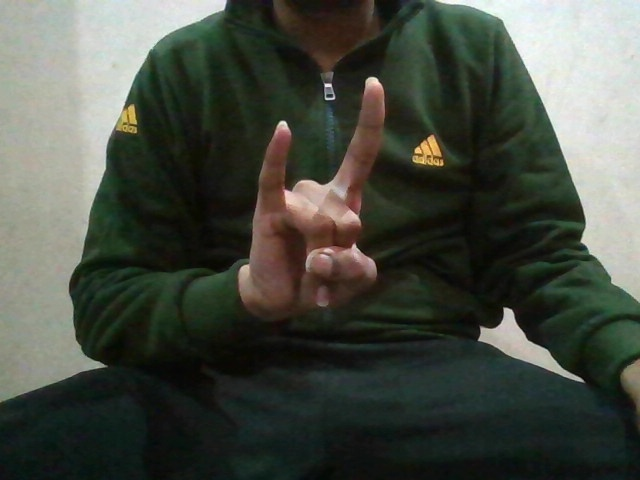U: (249, 78, 397, 329)
